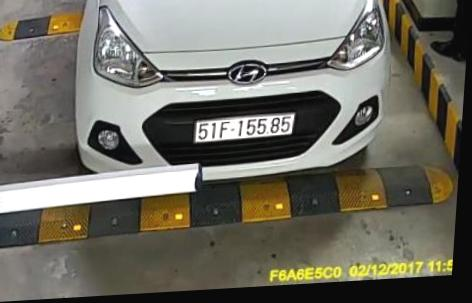License_Plate: (193, 109, 297, 148)
